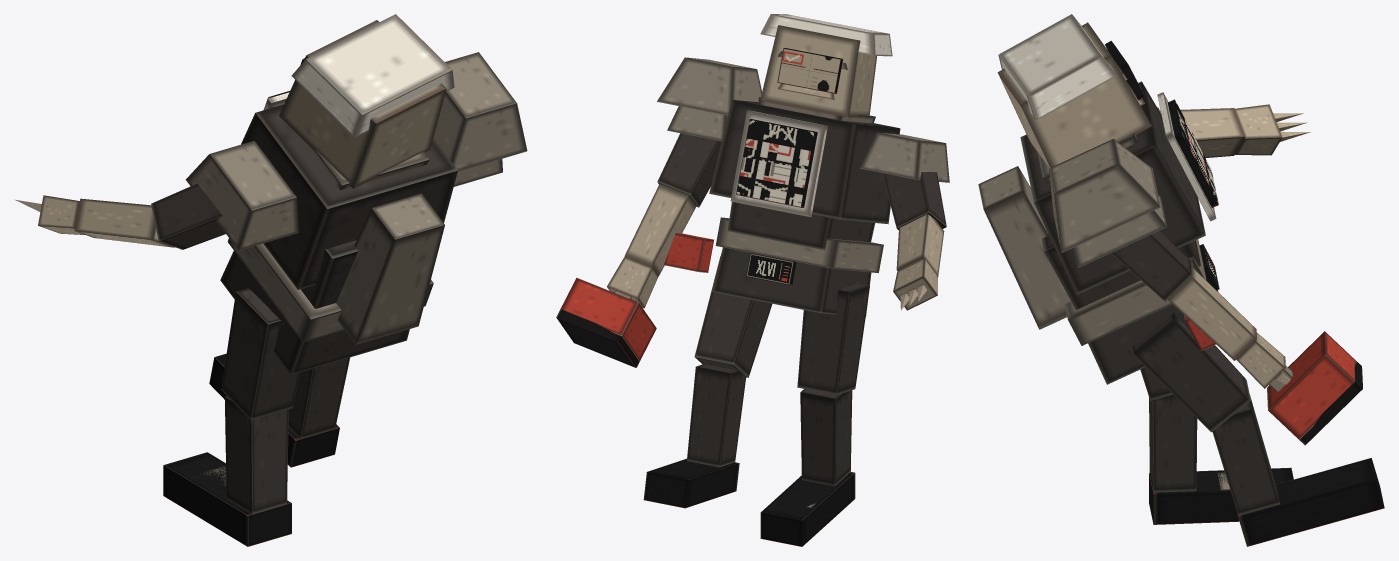
The model's file is exceptor_death.obj.
3 views of the same model, side by side, from view 1: azimuth 30°, elevation 25°; view 2: azimuth 150°, elevation 25°; view 3: azimuth 270°, elevation 25° (orthographic). The views are drawn at different scales.
Parts seen in each view (by area): view 1: exceptor_death; view 2: exceptor_death; view 3: exceptor_death.
Boxes of the visible parts, x1,y1,x2,y2 form: exceptor_death: (15,14,527,546); exceptor_death: (556,14,949,546); exceptor_death: (978,14,1384,546).
Size of the model in its own units: 0.8072 by 0.9968 by 0.7259.
Materials: 1 (1 with a texture image).
